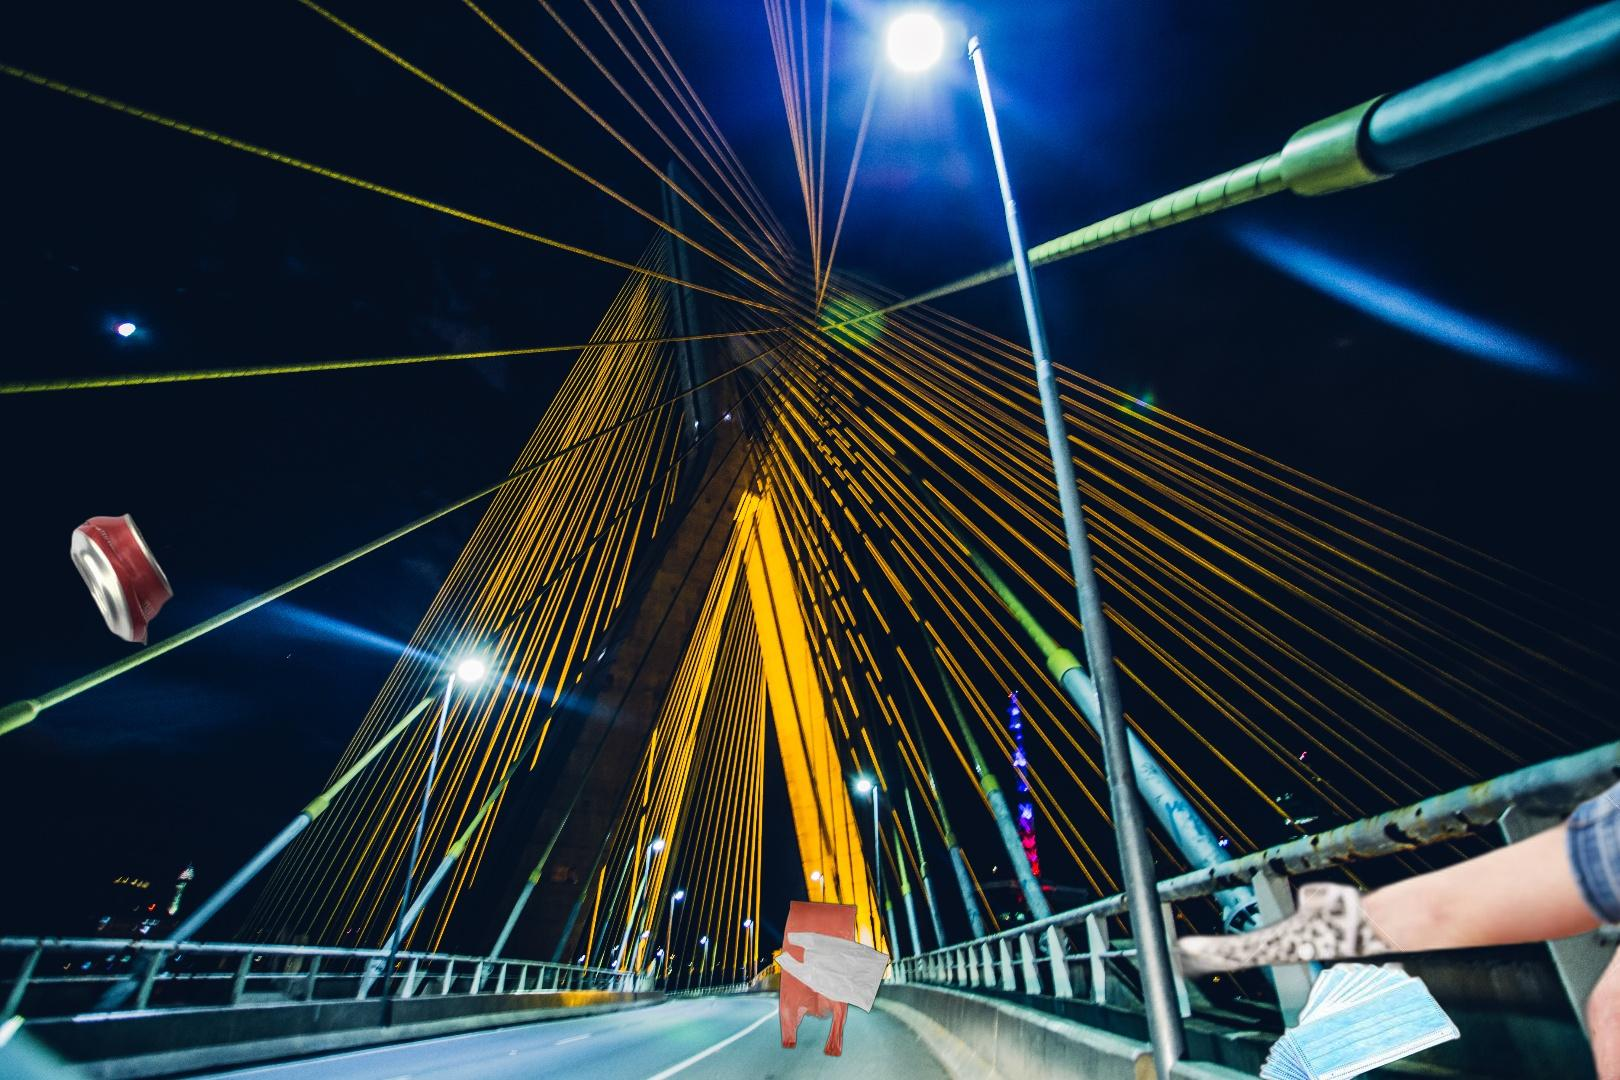metal-cans: (65, 510, 179, 648)
plastic-bag: (774, 878, 893, 1058)
trash: (1251, 959, 1464, 1080)
trashbox-cardboard: (1157, 595, 1620, 1080)
